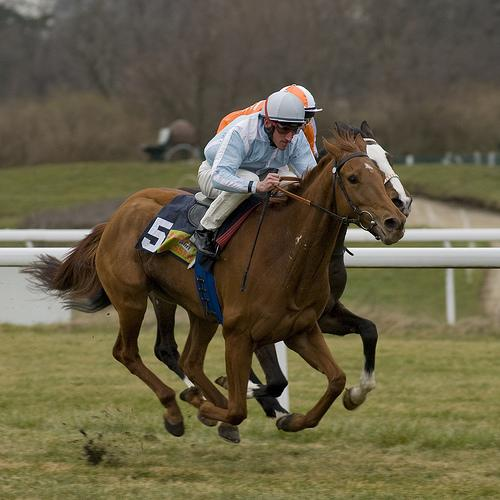person: (195, 86, 321, 283)
